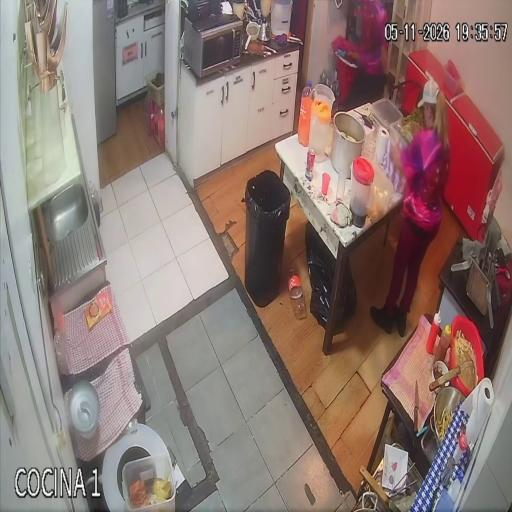Basurero: (245, 171, 290, 307)
Cuchillo1: (414, 380, 419, 434)
Envase Llajua: (435, 326, 451, 362)
Envase salsa: (426, 313, 441, 354)
Jarra1: (350, 157, 374, 228)
Jarra2: (308, 99, 331, 162)
Jarra3: (314, 83, 334, 109)
Microondas: (183, 18, 242, 76)
Persona1: (345, 0, 388, 113)
Persona2: (370, 82, 450, 336)
Tapa de olla: (68, 381, 99, 439)
Taper: (122, 452, 176, 512)
Taper2: (371, 99, 401, 130)
Taper3: (389, 116, 423, 149)
Taper4: (368, 163, 395, 221)
Vaso1: (322, 173, 330, 195)
botella: (298, 82, 313, 146)
olla1: (330, 112, 365, 179)
